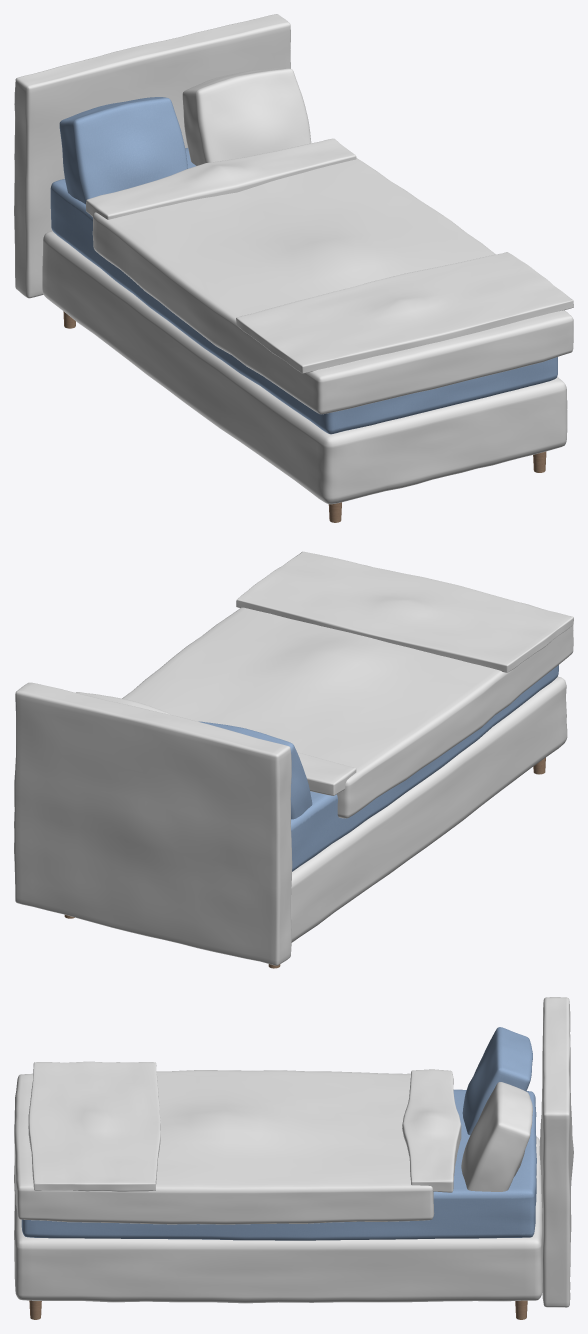
The model's file is bed__2.glb.
The picture shows the model from 3 angles, top to bottom: view 1: azimuth 30°, elevation 25°; view 2: azimuth 150°, elevation 25°; view 3: azimuth 270°, elevation 25°; orthographic projection. The views are drawn at different scales.
Parts seen in each view (by area): view 1: duvet, bed base, headboard, throw, mattress, pillow, pillow.001, duvet fold; view 2: headboard, duvet, throw, bed base, mattress, pillow, duvet fold; view 3: duvet, bed base, throw, mattress, headboard, duvet fold, pillow.001, pillow.
Part boxes in pixels (left/top/right/bottom): duvet: left=92, top=158, right=573, bottom=414; bed base: left=42, top=231, right=567, bottom=504; headboard: left=14, top=14, right=290, bottom=298; throw: left=236, top=252, right=573, bottom=373; mattress: left=50, top=148, right=557, bottom=434; pillow: left=59, top=97, right=187, bottom=204; pillow.001: left=182, top=68, right=311, bottom=165; duvet fold: left=86, top=138, right=356, bottom=219; headboard: left=14, top=682, right=292, bottom=965; duvet: left=122, top=564, right=573, bottom=818; throw: left=236, top=551, right=573, bottom=672; bed base: left=291, top=676, right=567, bottom=942; mattress: left=291, top=665, right=558, bottom=871; pillow: left=199, top=721, right=312, bottom=819; duvet fold: left=297, top=752, right=356, bottom=795; duvet: left=14, top=1070, right=434, bottom=1224; bed base: left=14, top=1137, right=542, bottom=1303; throw: left=28, top=1061, right=160, bottom=1191; mattress: left=21, top=1089, right=536, bottom=1240; headboard: left=539, top=997, right=573, bottom=1307; duvet fold: left=402, top=1069, right=461, bottom=1192; pillow.001: left=461, top=1082, right=532, bottom=1191; pillow: left=462, top=1027, right=532, bottom=1135.
Size of the model in its own units: 1.07 by 0.897 by 2.07.
6 materials, 2 textured.
